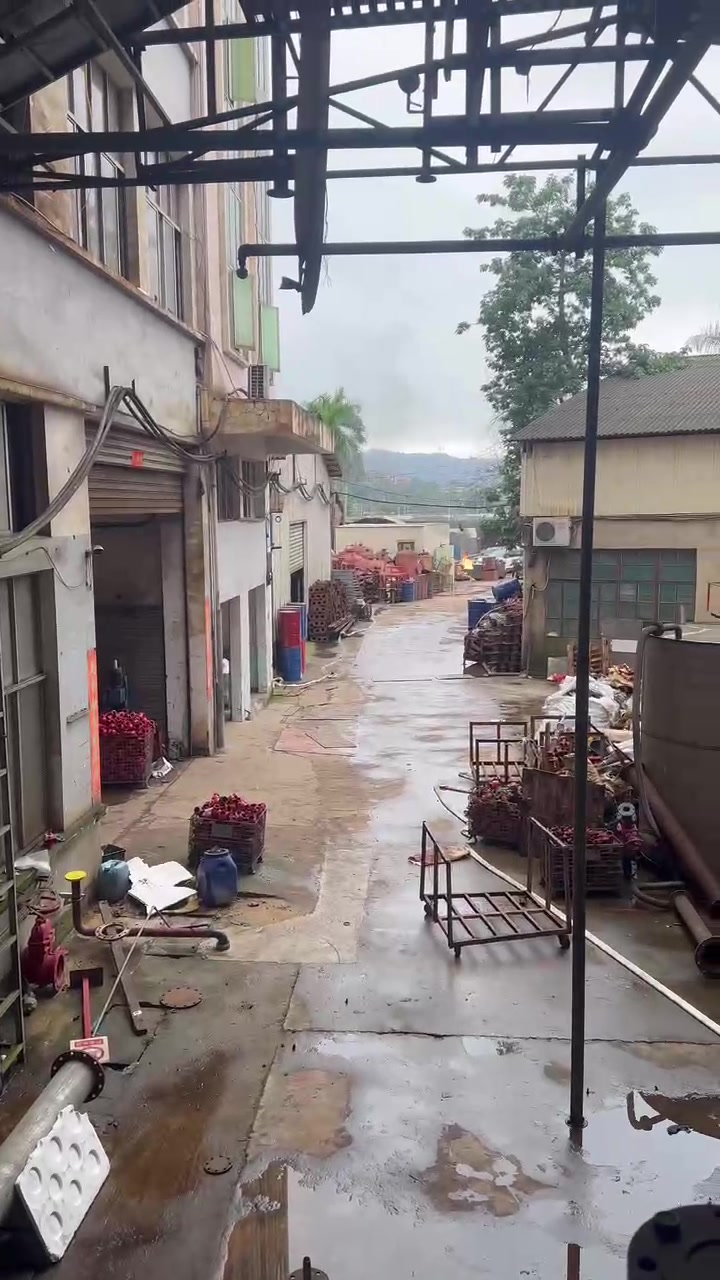fire: (462, 551, 473, 568)
